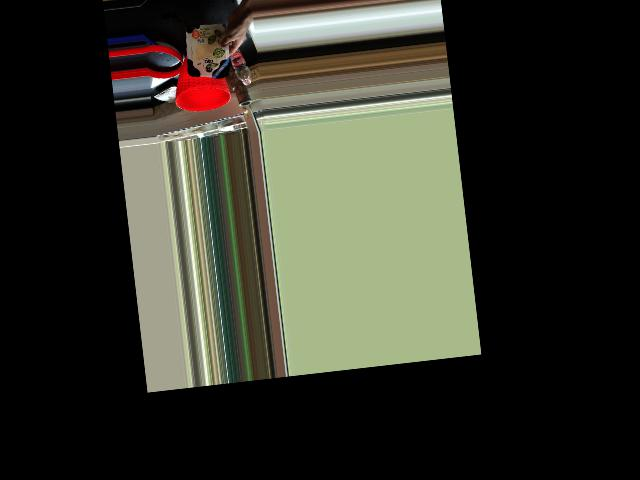cheese: (183, 24, 242, 82)
